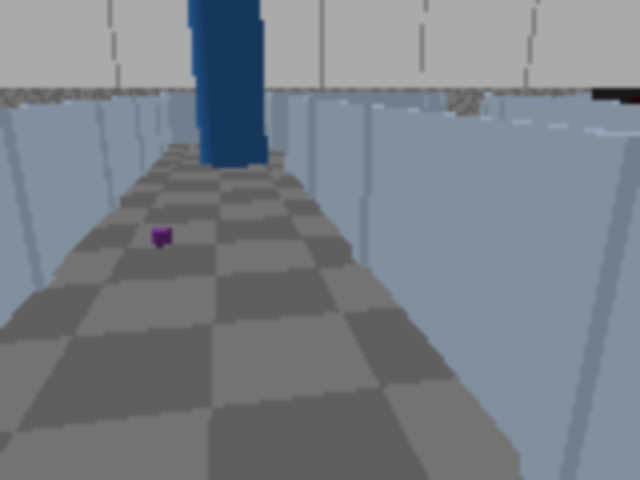puck: (152, 227, 173, 246)
